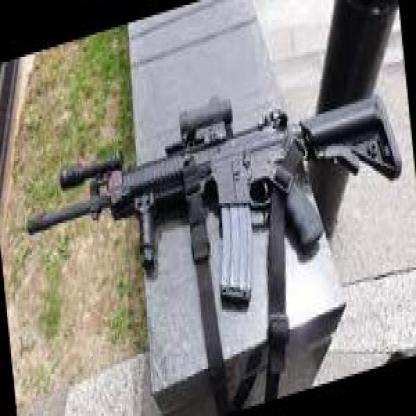rifle: (27, 67, 408, 356)
